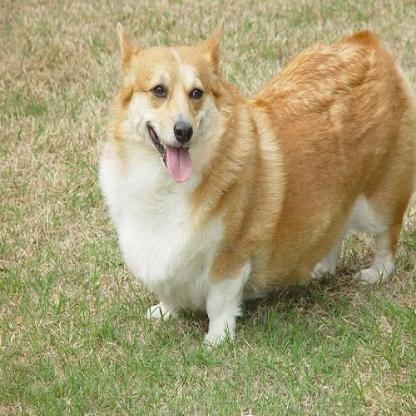Pembroke: (96, 13, 414, 348)
